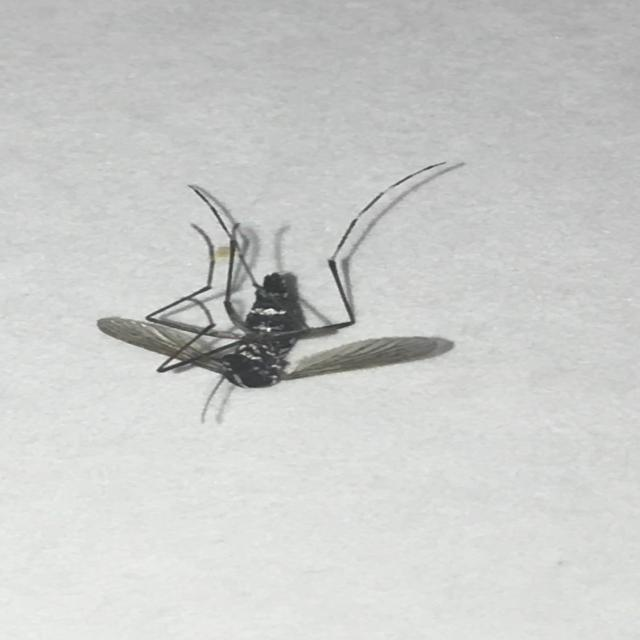albopictus: (82, 145, 466, 430)
